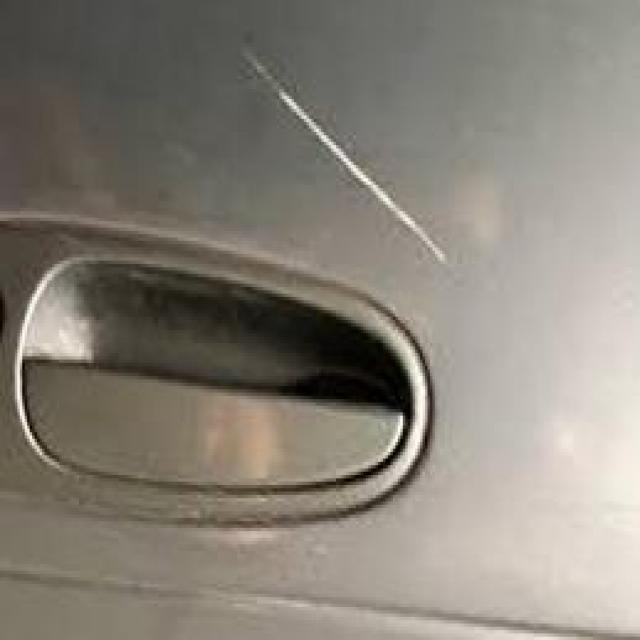scratch: (224, 22, 474, 276)
